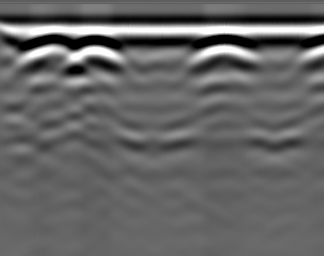steel: (192, 33, 259, 68), (74, 37, 125, 66), (25, 35, 71, 63)
